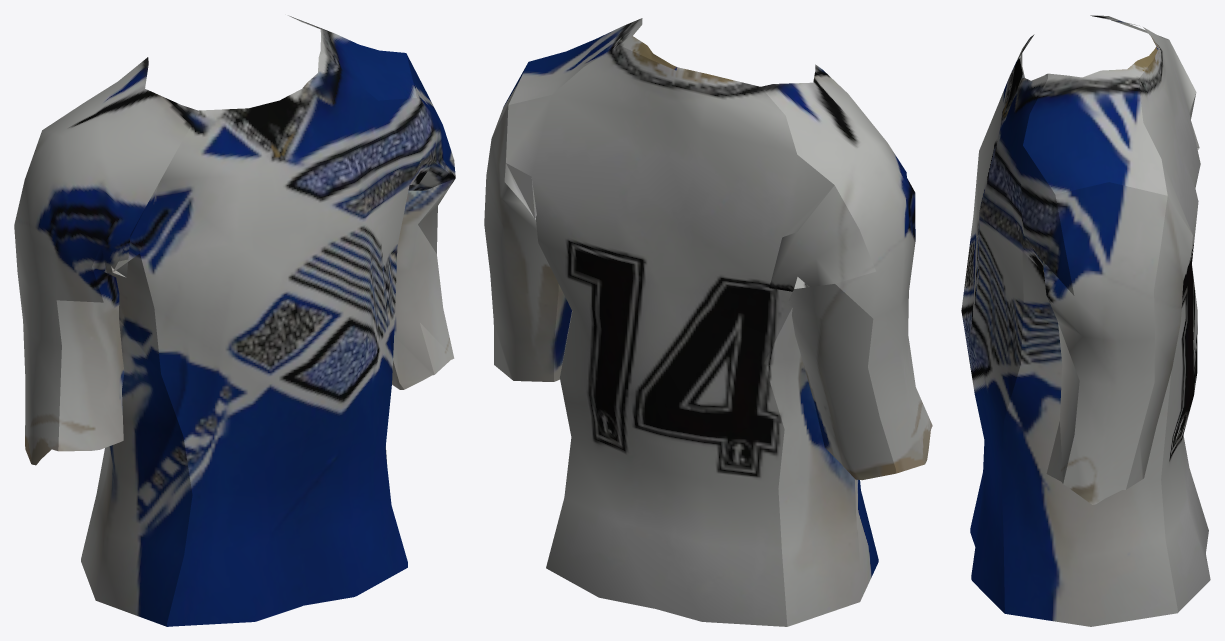
Rendered from 029-shell.glb.
The picture shows the model from 3 angles, left to right: view 1: azimuth 30°, elevation 25°; view 2: azimuth 150°, elevation 25°; view 3: azimuth 270°, elevation 25°; orthographic projection. The views are drawn at different scales.
Parts seen in each view (by area): view 1: geometry_0; view 2: geometry_0; view 3: geometry_0.
Boxes of the visible parts, x1,y1,x2,y2 form: geometry_0: (14, 15, 455, 626); geometry_0: (484, 18, 932, 626); geometry_0: (961, 15, 1210, 626).
Size of the model in its own units: 0.5593 by 0.6643 by 0.2908.
1 material, 1 textured.
